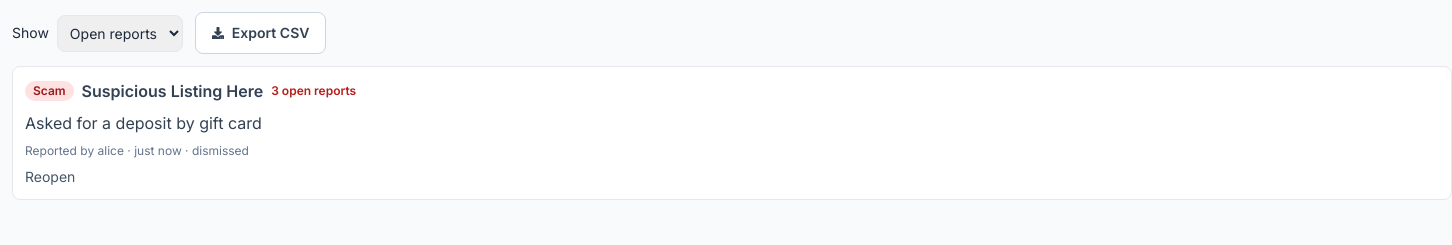
Scenario: AdminReports › shows action errors
Click the button "Reopen" at point(50, 177), box [25,167,75,187]
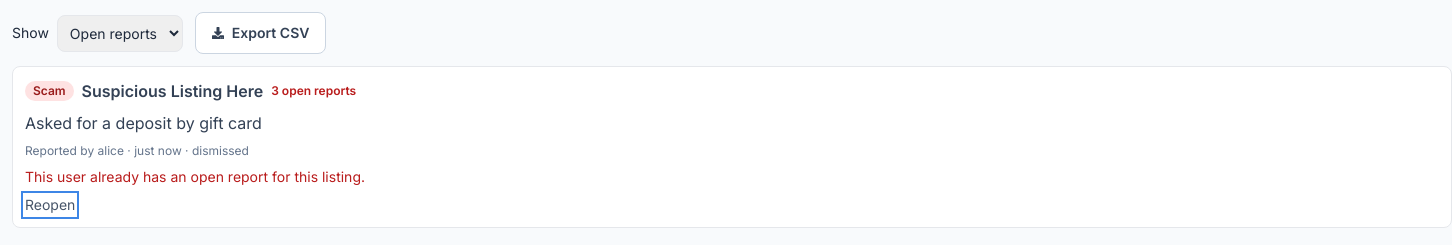
Now the text "This user already has an open report for this listing." is shown, box [25,168,365,185]
